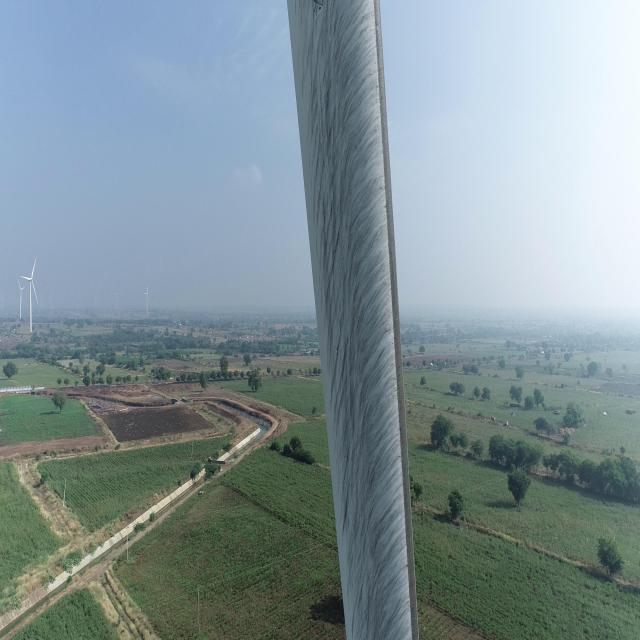Dirt: (286, 1, 417, 640)
